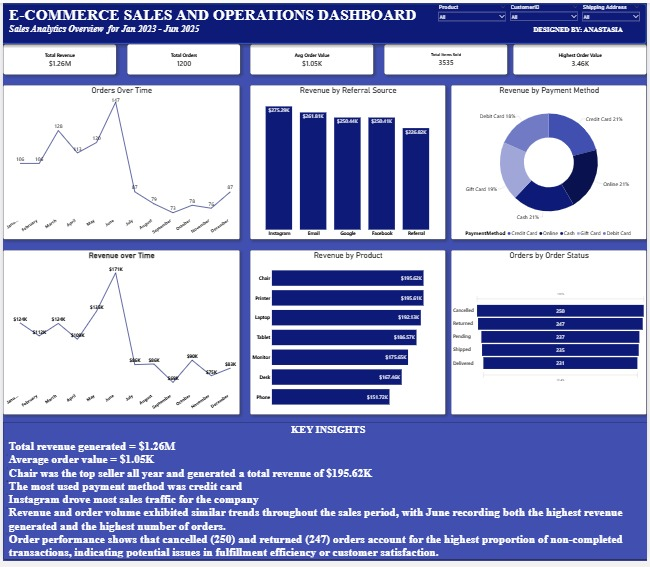

The page's visual inventory and layout, read from the dashboard file:
{"tool":"powerbi","page":{"name":"Page 1","canvas":[3000,2600],"ordinal":0},"visuals":[{"type":"cardVisual","fields":{"Data":["Sheet1.Total Revenue"]},"box":[0,192,528,144],"z":0},{"type":"cardVisual","fields":{"Data":["Sheet1.Avg Order Value"]},"box":[1152,192,576,144],"z":1000},{"type":"cardVisual","fields":{"Data":["Sheet1.Total Quantity"]},"box":[1776,192,576,144],"z":2000},{"type":"cardVisual","fields":{"Data":["Sheet1.Highest Order"]},"box":[2376,192,624,144],"z":3000},{"type":"shape","box":[-24,0,3024,192],"z":5000},{"type":"cardVisual","fields":{"Data":["Sheet1.Total Orders"]},"box":[576,192,528,144],"z":6000},{"type":"lineChart","title":"Revenue over Time","fields":{"Category":["Sheet1.Date.Variation.Date Hierarchy.Month"],"Y":["Sheet1.Total Revenue"]},"box":[0,1152,1104,768],"z":7000},{"type":"barChart","title":"Revenue by Product","fields":{"Category":["Sheet1.Product"],"Y":["Sheet1.Total Revenue"]},"box":[1152,1152,912,768],"z":8000},{"type":"donutChart","title":" Revenue by Payment Method","fields":{"Category":["Sheet1.PaymentMethod"],"Y":["Sheet1.Total Revenue"]},"box":[2088,384,912,720],"z":9000},{"type":"lineChart","title":"Orders Over Time","fields":{"Category":["Sheet1.Date.Variation.Date Hierarchy.Month"],"Y":["Sheet1.Total Orders"]},"box":[0,384,1104,720],"z":10000},{"type":"textbox","box":[0,1952,3040,640],"z":11000},{"type":"textbox","box":[24,0,2976,192],"z":12000},{"type":"slicer","fields":{"Values":["Sheet1.Product"]},"box":[2016,0,336,96],"z":13000},{"type":"slicer","fields":{"Values":["Sheet1.CustomerID"]},"box":[2352,0,336,96],"z":14000},{"type":"slicer","fields":{"Values":["Sheet1.ShippingAddress"]},"box":[2688,0,288,96],"z":15000},{"type":"funnel","title":"Orders by Order Status","fields":{"Category":["Sheet1.OrderStatus"],"Y":["CountNonNull(Sheet1.OrderID)"]},"box":[2088,1152,912,768],"z":16000},{"type":"columnChart","title":"Revenue by Referral Source","fields":{"Category":["Sheet1.ReferralSource"],"Y":["Sheet1.Total Revenue"]},"box":[1152,384,912,720],"z":17000}]}

Visuals, with their boxes in screenshot pixels (x1, y1, x2, y2), scaled from the page's 3000x2600 canvas onto the 650x567 screenshot:
cardVisual - Sheet1.Total Revenue: x1=0 y1=42 x2=114 y2=73
cardVisual - Sheet1.Avg Order Value: x1=250 y1=42 x2=374 y2=73
cardVisual - Sheet1.Total Quantity: x1=385 y1=42 x2=510 y2=73
cardVisual - Sheet1.Highest Order: x1=515 y1=42 x2=649 y2=73
shape: x1=0 y1=0 x2=649 y2=42
cardVisual - Sheet1.Total Orders: x1=125 y1=42 x2=239 y2=73
"Revenue over Time" lineChart: x1=0 y1=251 x2=239 y2=419
"Revenue by Product" barChart: x1=250 y1=251 x2=447 y2=419
" Revenue by Payment Method" donutChart: x1=452 y1=84 x2=649 y2=241
"Orders Over Time" lineChart: x1=0 y1=84 x2=239 y2=241
textbox: x1=0 y1=426 x2=649 y2=565
textbox: x1=5 y1=0 x2=649 y2=42
slicer - Sheet1.Product: x1=437 y1=0 x2=510 y2=21
slicer - Sheet1.CustomerID: x1=510 y1=0 x2=582 y2=21
slicer - Sheet1.ShippingAddress: x1=582 y1=0 x2=645 y2=21
"Orders by Order Status" funnel: x1=452 y1=251 x2=649 y2=419
"Revenue by Referral Source" columnChart: x1=250 y1=84 x2=447 y2=241
